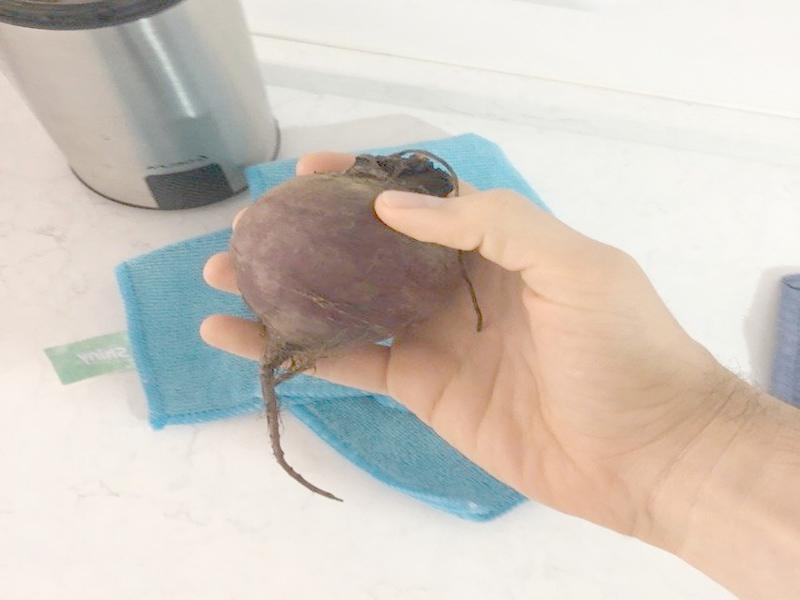Beet: (230, 150, 480, 502)
